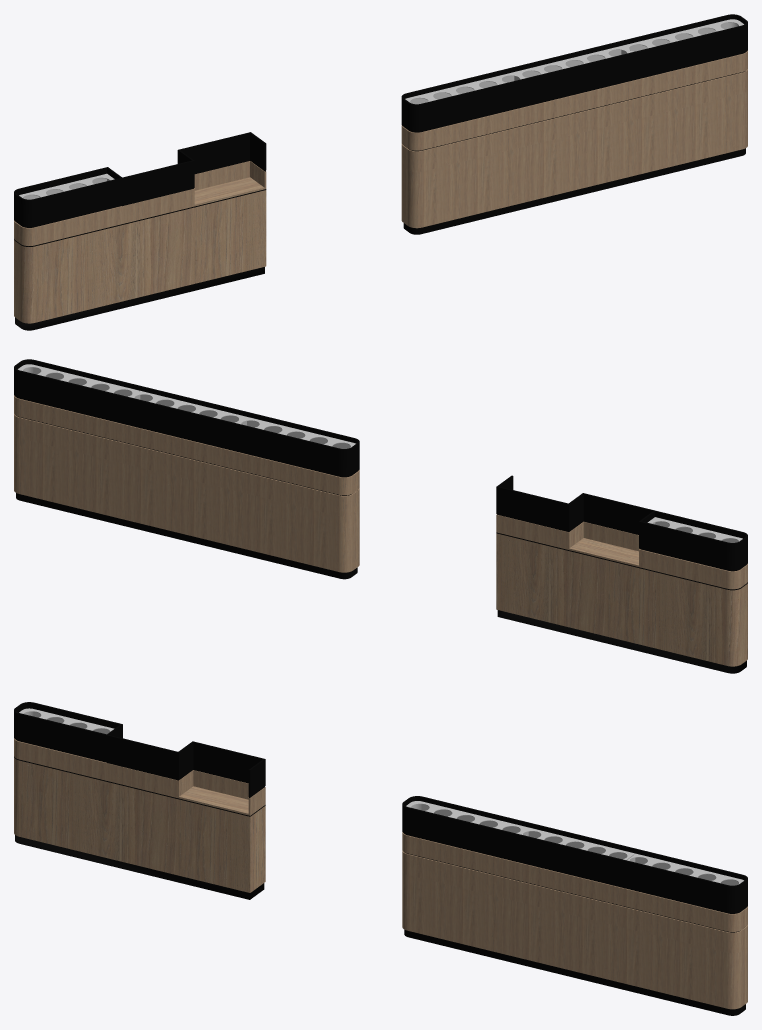
File: PlanterBoxes.glb
The picture shows the model from 3 angles, top to bottom: view 1: azimuth 30°, elevation 25°; view 2: azimuth 150°, elevation 25°; view 3: azimuth 330°, elevation 25°; orthographic projection.
Parts seen in each view (by area): view 1: Planterbox_Large, Planterbox_Small; view 2: Planterbox_Large, Planterbox_Small; view 3: Planterbox_Large, Planterbox_Small.
Boxes of the visible parts, x1=… form: Planterbox_Large: x1=401, y1=14, x2=747, y2=234; Planterbox_Small: x1=14, y1=132, x2=266, y2=330; Planterbox_Large: x1=14, y1=359, x2=359, y2=579; Planterbox_Small: x1=496, y1=475, x2=747, y2=673; Planterbox_Large: x1=402, y1=796, x2=747, y2=1015; Planterbox_Small: x1=14, y1=702, x2=265, y2=899.
Size of the model in its own units: 8.16 by 1.4 by 0.3163.
Materials: 3 (1 with a texture image).
